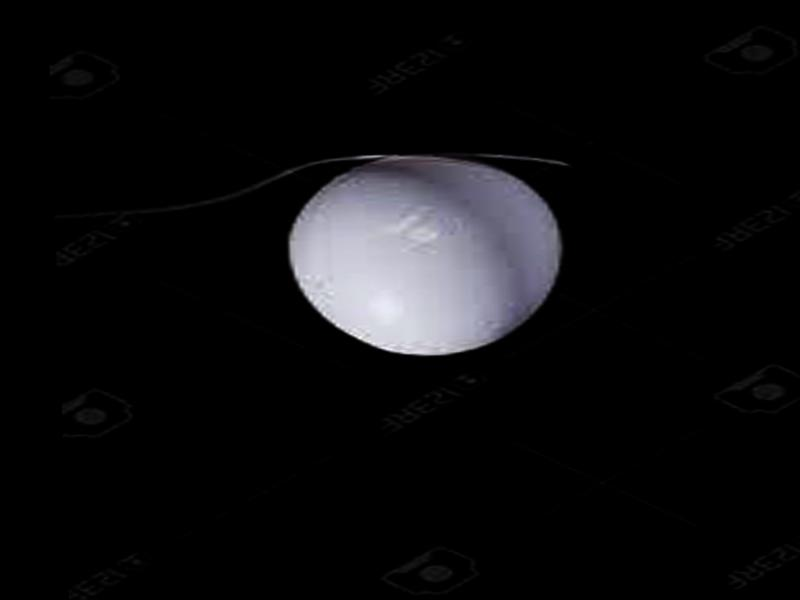Eggs: (284, 149, 566, 358)
